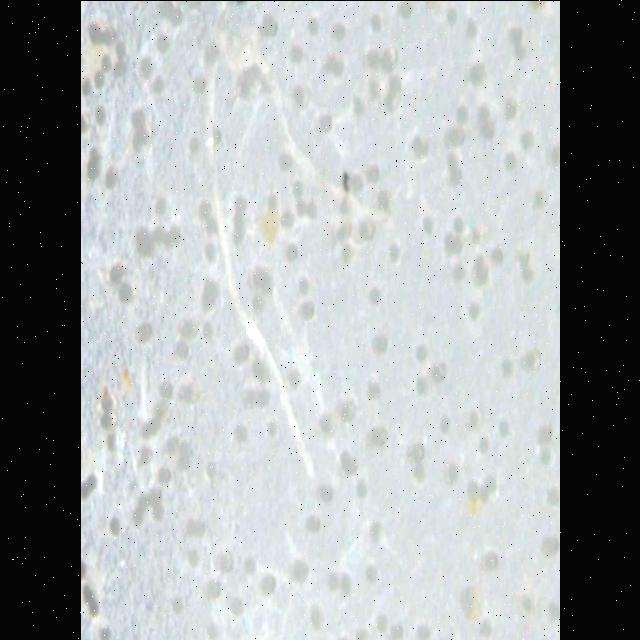Fibre: (190, 13, 400, 481)
